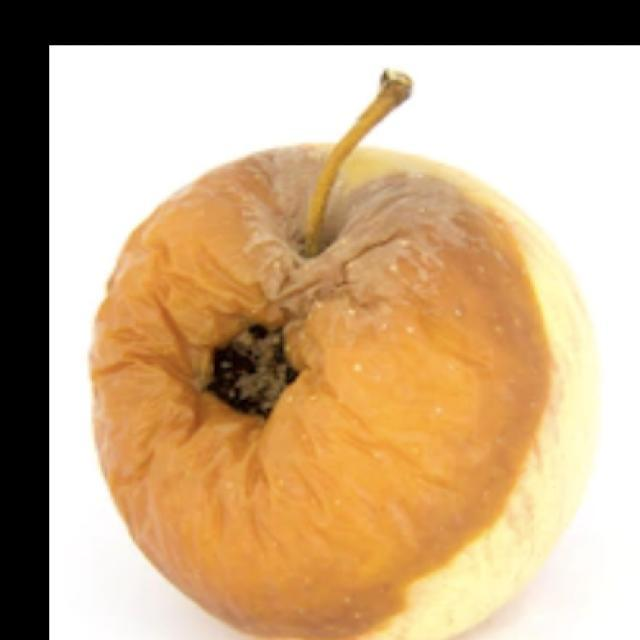Rotten: (93, 141, 571, 640)
